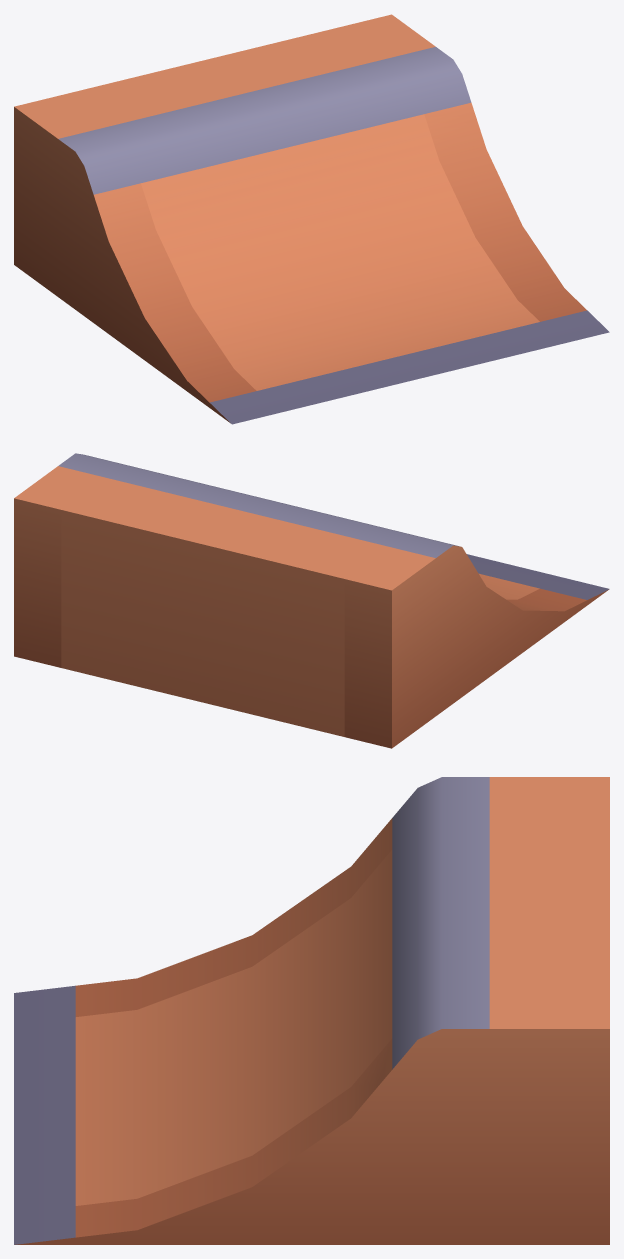
Rendered from half-pipe-low.fbx.
3 renders of one model, top to bottom at view 1: azimuth 30°, elevation 25°; view 2: azimuth 150°, elevation 25°; view 3: azimuth 270°, elevation 25°, orthographic. The views are drawn at different scales.
Visible parts, largest first — view 1: half-pipe-low; view 2: half-pipe-low; view 3: half-pipe-low.
Part boxes in pixels (bbox=[...]): half-pipe-low: bbox=[14, 14, 609, 424]; half-pipe-low: bbox=[14, 453, 609, 748]; half-pipe-low: bbox=[14, 777, 609, 1244].
Bounding box in the file's own units: 100 × 40 × 100.
1 material, 1 textured.
